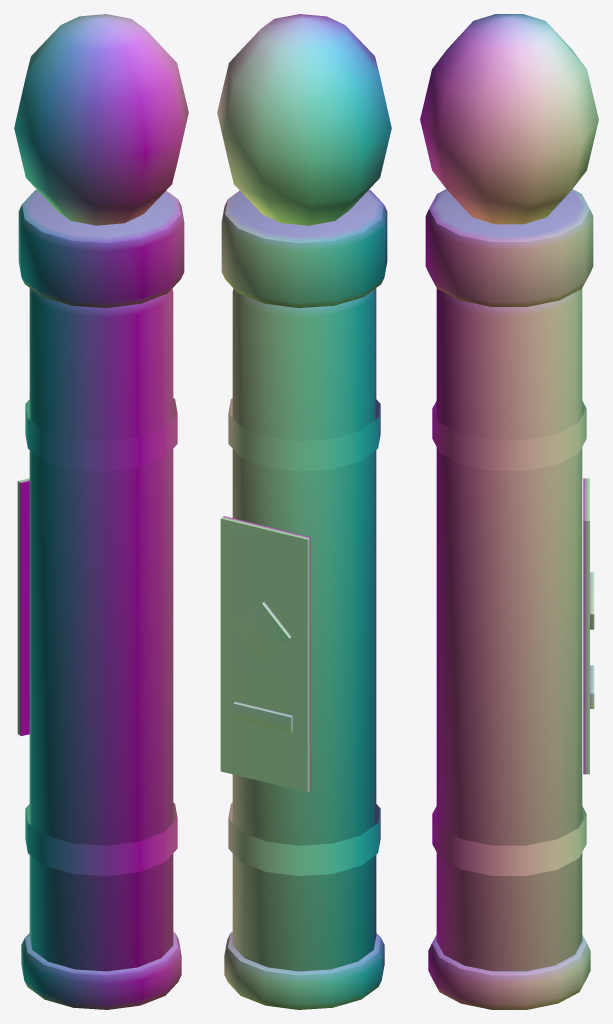
File: gad_flare.glb
3 views of the same model, side by side, from view 1: azimuth 30°, elevation 25°; view 2: azimuth 150°, elevation 25°; view 3: azimuth 270°, elevation 25° (orthographic).
Visible parts, largest first — view 1: flare; view 2: flare; view 3: flare.
Boxes of the visible parts, x1,y1,x2,y2 form: flare: (14,14,188,1009); flare: (217,14,391,1009); flare: (420,14,598,1009).
Bounding box in the file's own units: 0.0304 × 0.19 × 0.032.
